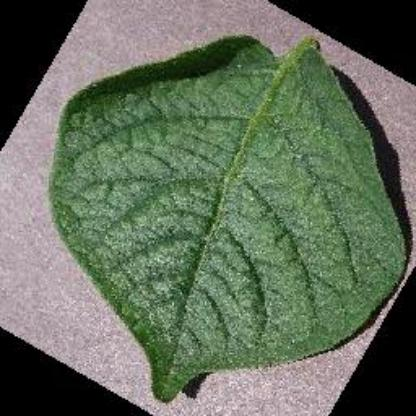Healthy-plant: (45, 32, 409, 396)
